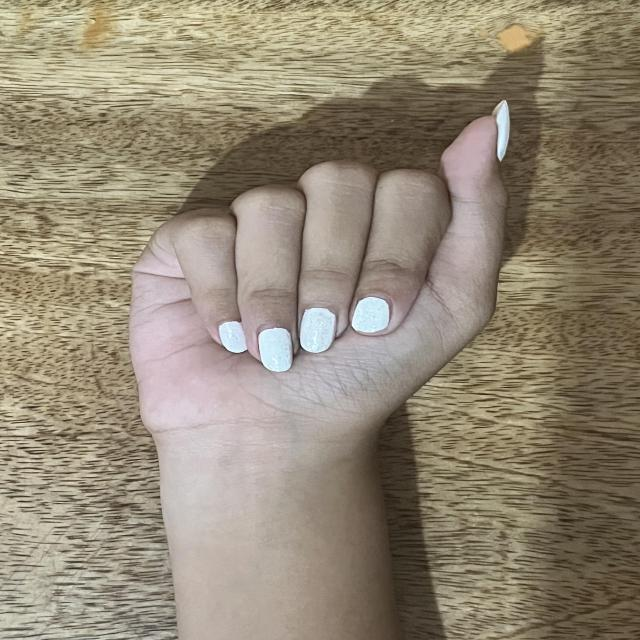A: (122, 100, 514, 432)
